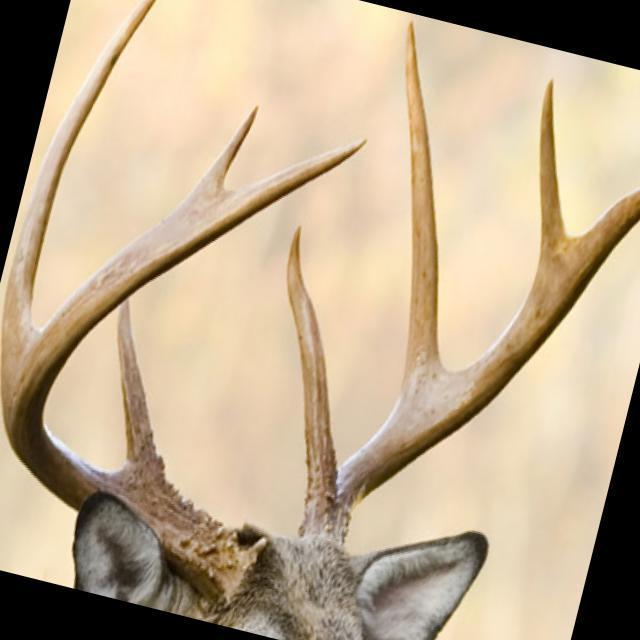E1: (193, 105, 258, 197)
L-F: (298, 185, 640, 547)
L-G1: (285, 224, 338, 519)
L-G2: (388, 19, 452, 418)
L-G3: (534, 77, 572, 280)
R-F: (4, 138, 367, 605)
R-G1: (115, 305, 164, 479)
R-G2: (0, 0, 156, 421)
